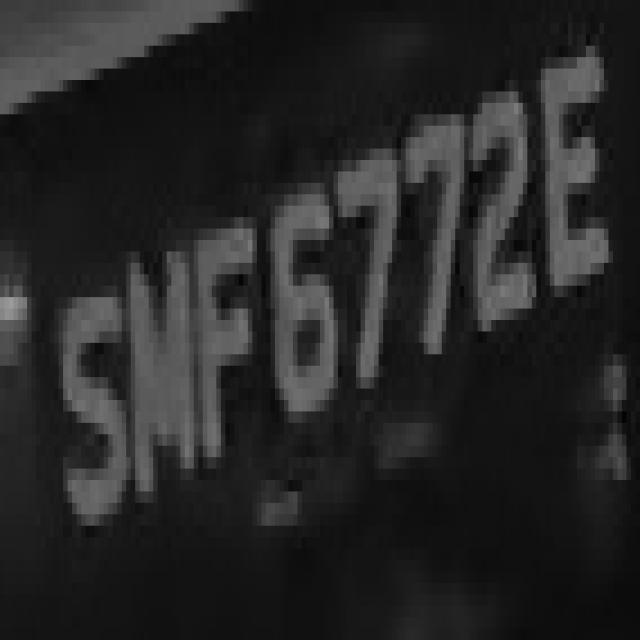2: (446, 91, 532, 400)
6: (257, 160, 351, 480)
7: (383, 137, 473, 423), (325, 148, 401, 468)
E: (536, 11, 631, 366)
F: (180, 217, 266, 503)
M: (122, 228, 194, 492)
S: (36, 263, 126, 560)
